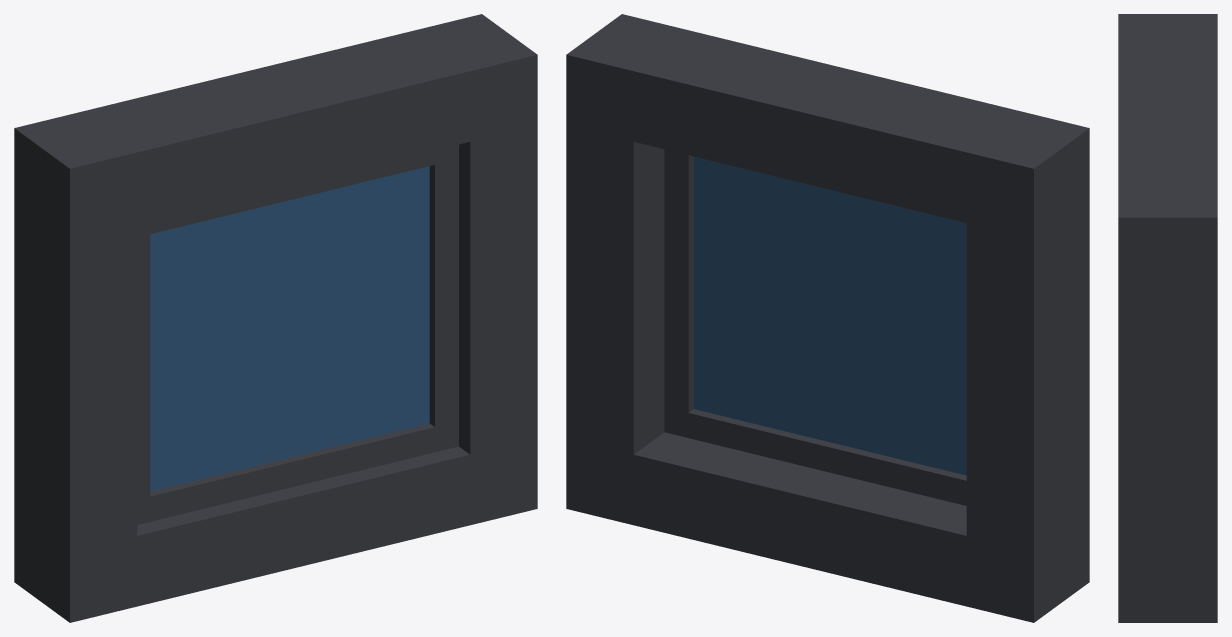
The model's file is SM_Opening_Window03603_Black_01.gltf.
3 renders of one model, left to right at view 1: azimuth 30°, elevation 25°; view 2: azimuth 150°, elevation 25°; view 3: azimuth 270°, elevation 25°, orthographic. The views are drawn at different scales.
Parts seen in each view (by area): view 1: SM_Opening_Window03603_Black_01; view 2: SM_Opening_Window03603_Black_01; view 3: SM_Opening_Window03603_Black_01.
Boxes of the visible parts, left/top/right/bottom form: SM_Opening_Window03603_Black_01: left=14, top=14, right=537, bottom=622; SM_Opening_Window03603_Black_01: left=566, top=14, right=1089, bottom=622; SM_Opening_Window03603_Black_01: left=1118, top=14, right=1217, bottom=622.
Bounding box in the file's own units: 0.485 × 0.45 × 0.1.
1 material, 1 textured.
